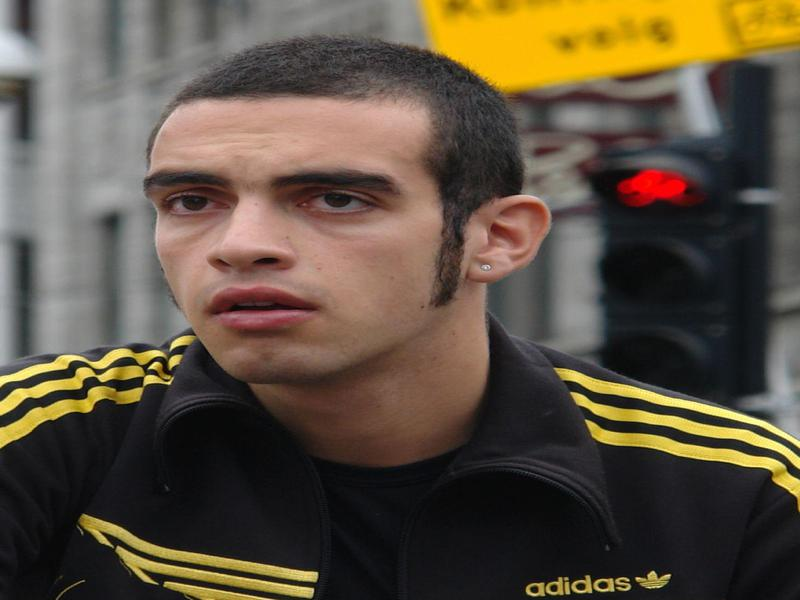person: (1, 34, 799, 599)
